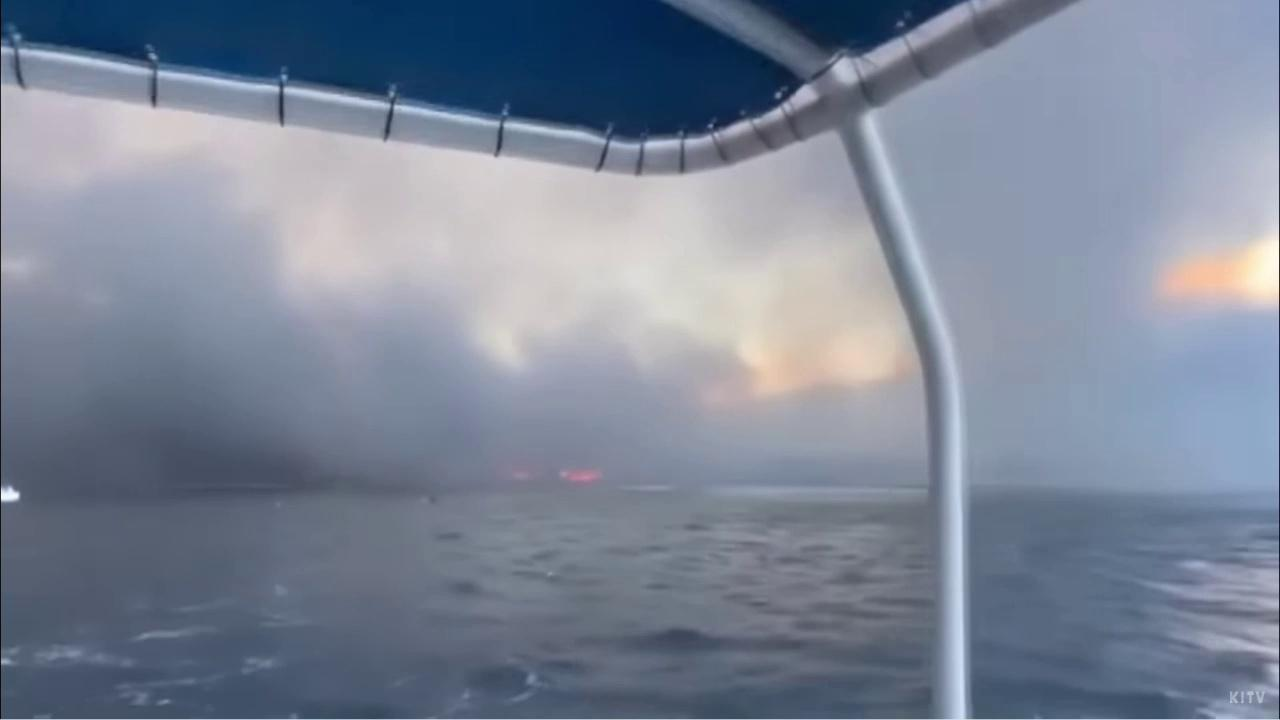fire: (559, 468, 605, 483)
smoke: (0, 0, 1280, 505)
